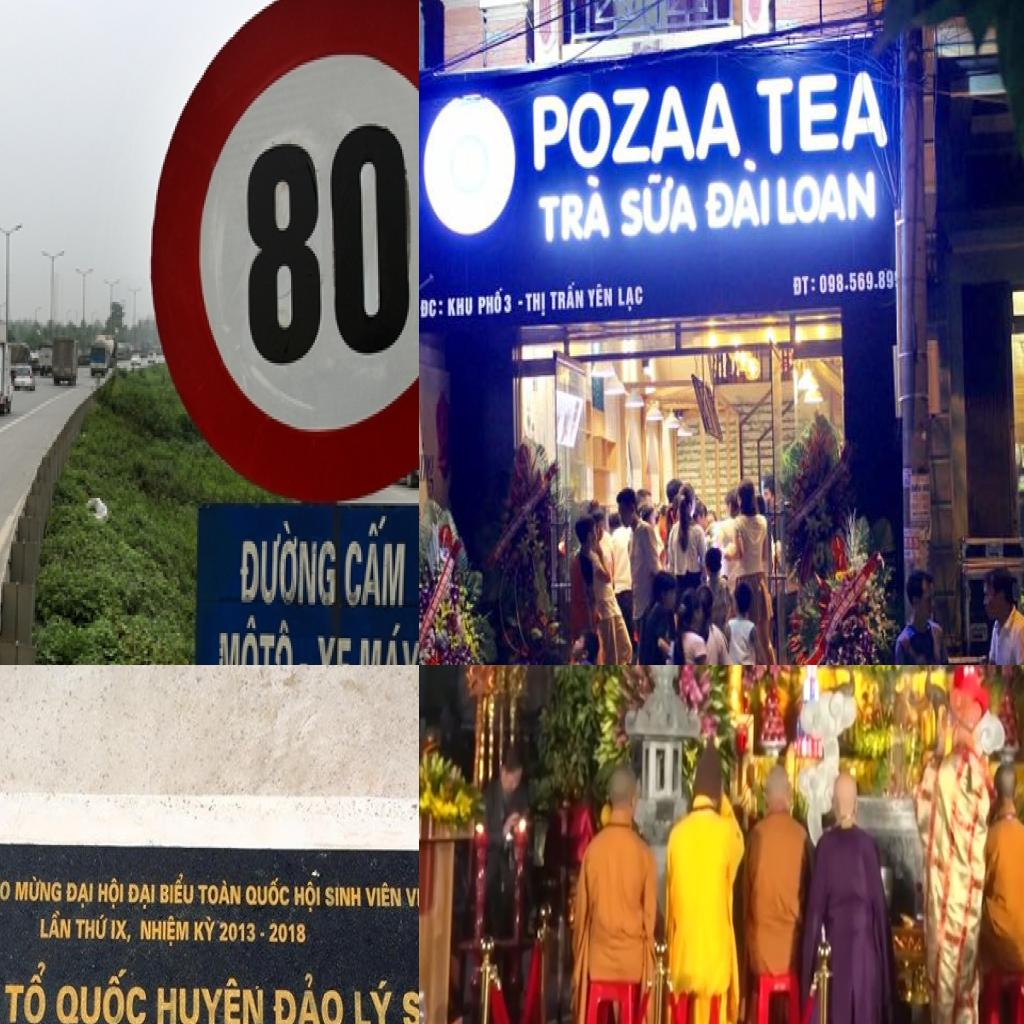text: (230, 108, 410, 378), (531, 70, 747, 178), (756, 63, 898, 159), (234, 516, 340, 605), (776, 167, 882, 230), (344, 516, 409, 613), (616, 167, 698, 236), (154, 975, 265, 1024), (55, 967, 149, 1024), (538, 175, 612, 244), (705, 158, 772, 231), (210, 612, 294, 665), (271, 972, 345, 1024), (3, 960, 48, 1024), (352, 625, 419, 665), (819, 268, 896, 295), (352, 980, 394, 1024), (138, 914, 191, 948), (419, 417, 439, 500), (311, 628, 354, 665), (14, 874, 62, 904), (245, 878, 290, 908), (197, 879, 243, 908), (552, 278, 586, 312), (476, 287, 513, 318), (160, 874, 195, 906), (38, 909, 73, 940), (363, 882, 403, 909), (293, 879, 322, 915), (74, 913, 110, 942), (586, 279, 616, 311), (324, 885, 362, 910), (216, 922, 258, 944), (267, 923, 307, 946), (126, 882, 156, 912), (98, 878, 124, 912), (64, 882, 96, 909), (192, 914, 219, 944), (523, 290, 547, 321), (399, 988, 419, 1024), (617, 286, 644, 312), (419, 296, 445, 322), (791, 274, 817, 298), (448, 295, 474, 318), (110, 919, 133, 943), (403, 882, 419, 914), (0, 873, 11, 903)
